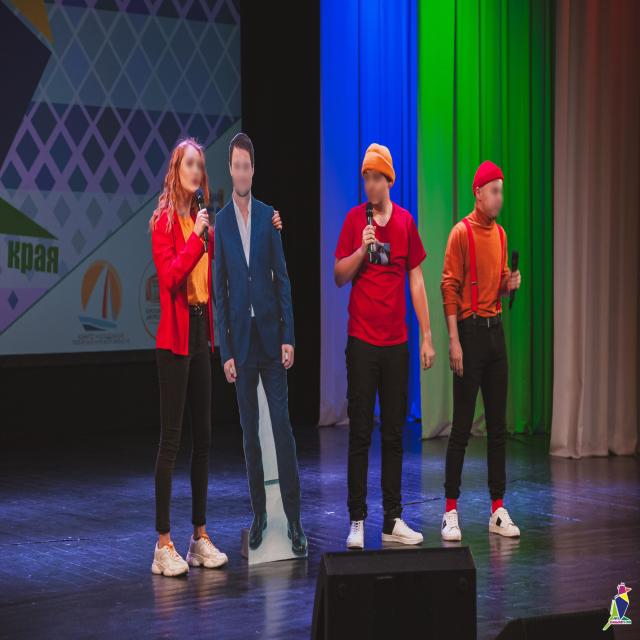Person: (426, 141, 536, 548), (132, 136, 226, 591), (225, 122, 312, 562), (339, 130, 425, 550)
